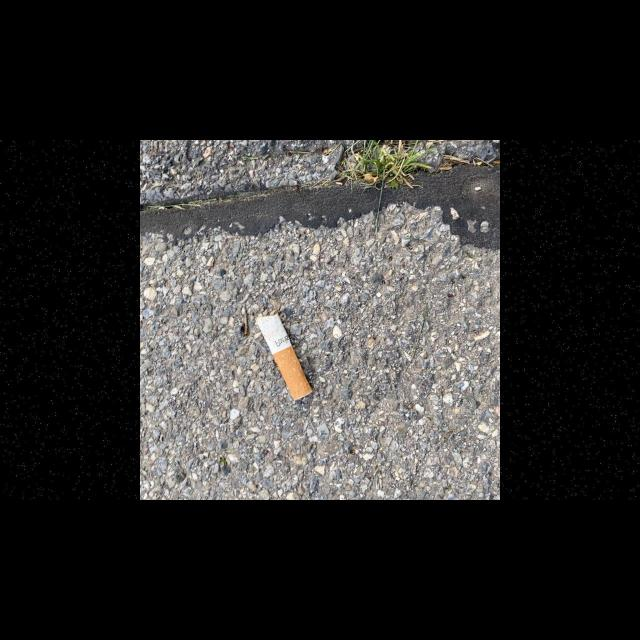cigarette: (253, 305, 314, 401)
